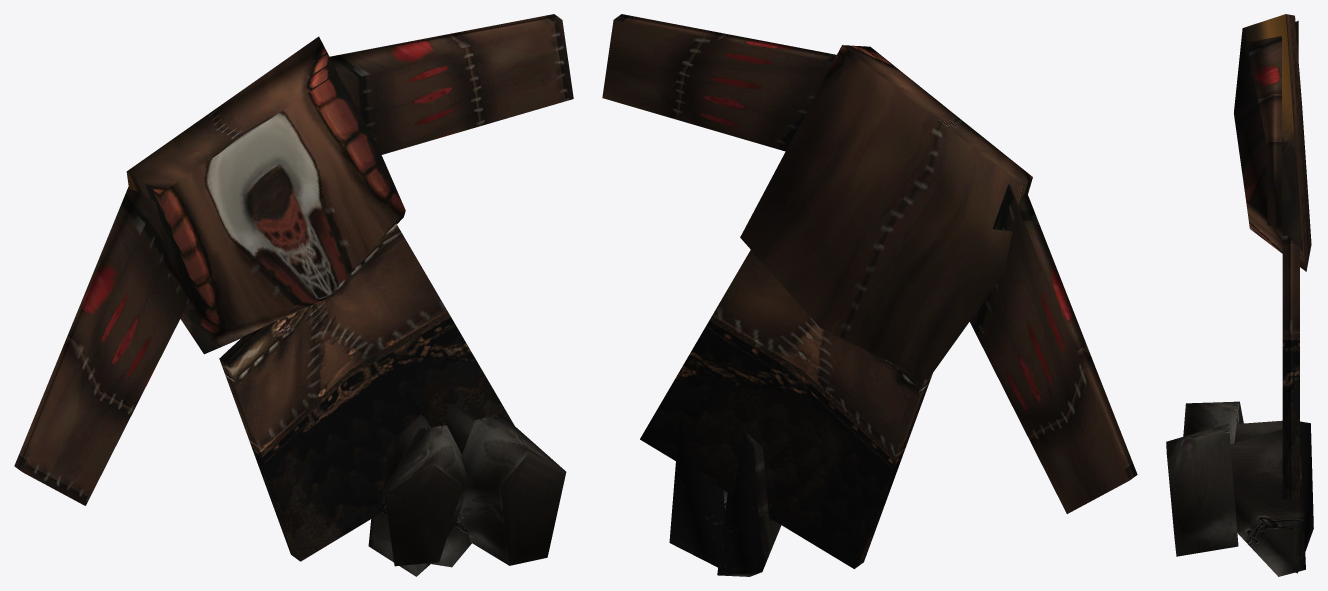
3 renders of one model, left to right at view 1: azimuth 30°, elevation 25°; view 2: azimuth 150°, elevation 25°; view 3: azimuth 270°, elevation 25°, orthographic. The views are drawn at different scales.
Visible parts, largest first — view 1: zm_Buerger; view 2: zm_Buerger; view 3: zm_Buerger.
Boxes of the visible parts, x1=… form: zm_Buerger: x1=14, y1=14, x2=573, y2=576; zm_Buerger: x1=602, y1=14, x2=1137, y2=576; zm_Buerger: x1=1166, y1=14, x2=1313, y2=576.
Size of the model in its own units: 116 by 115 by 30.18.
